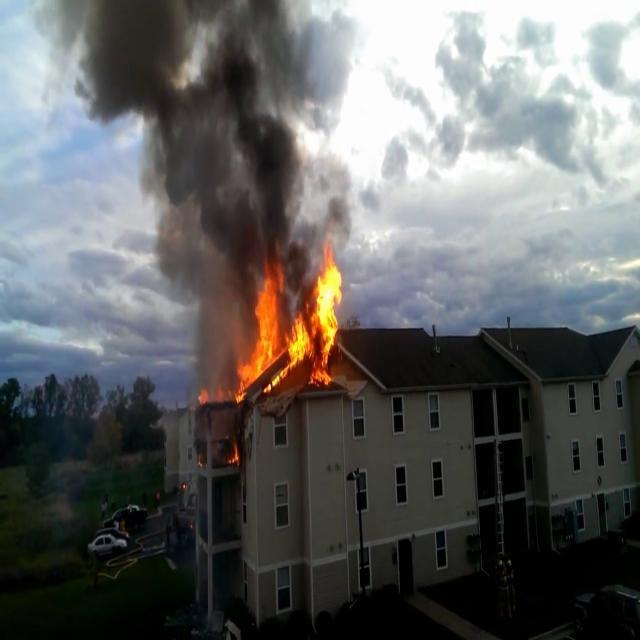Fire: (242, 251, 348, 385), (228, 438, 242, 469)
Smoke: (78, 0, 356, 291)
